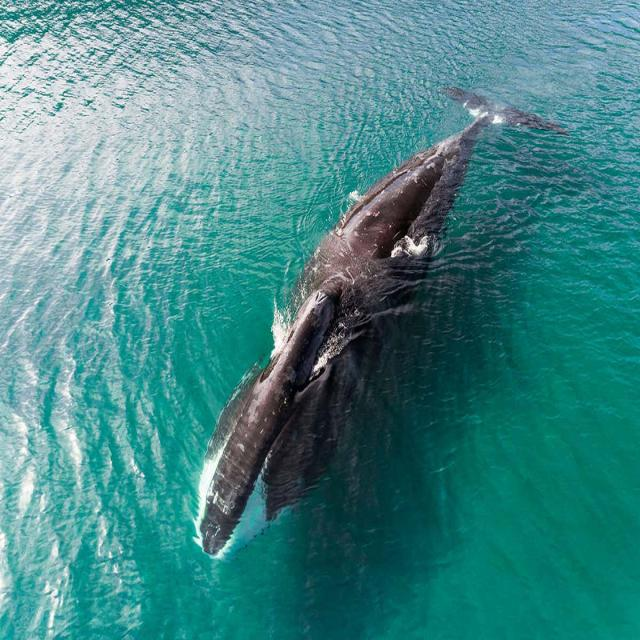whale: (196, 88, 563, 555)
